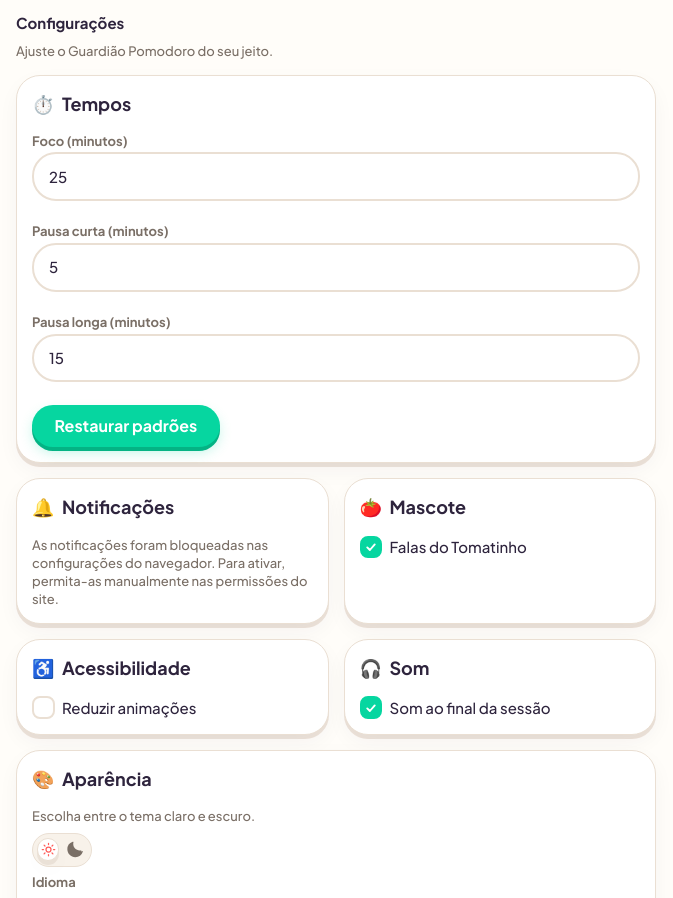
Test case: ConfiguracoesPage › seção Tempos › valor fora da faixa é clampado ao sair do campo
Step 1. Replace the text in the number field labelled "Pausa curta (minutos)" with "999" → (336, 267), box [32, 243, 640, 292]
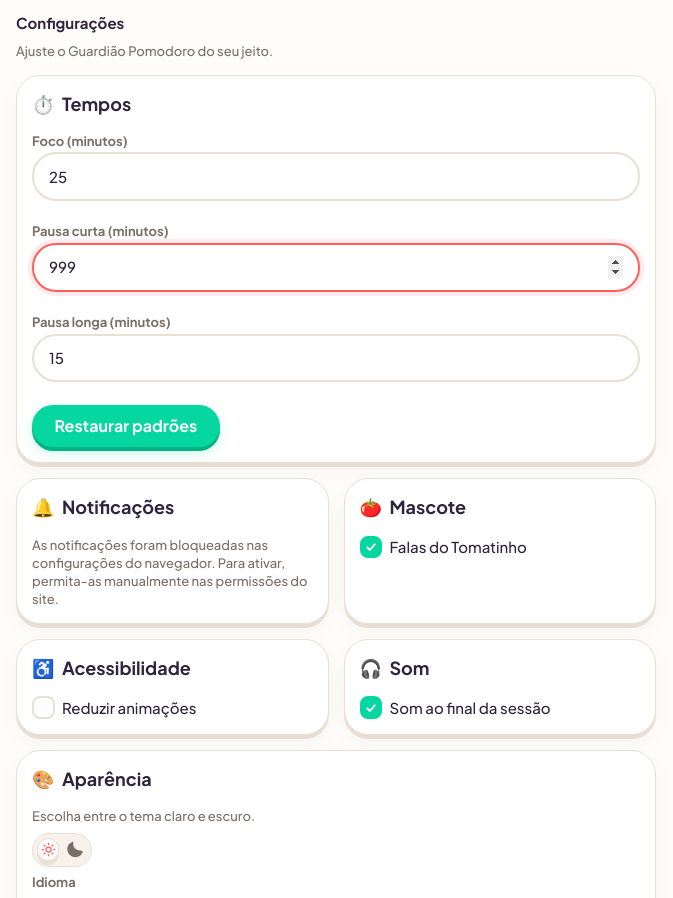
Step 2. Press Tab
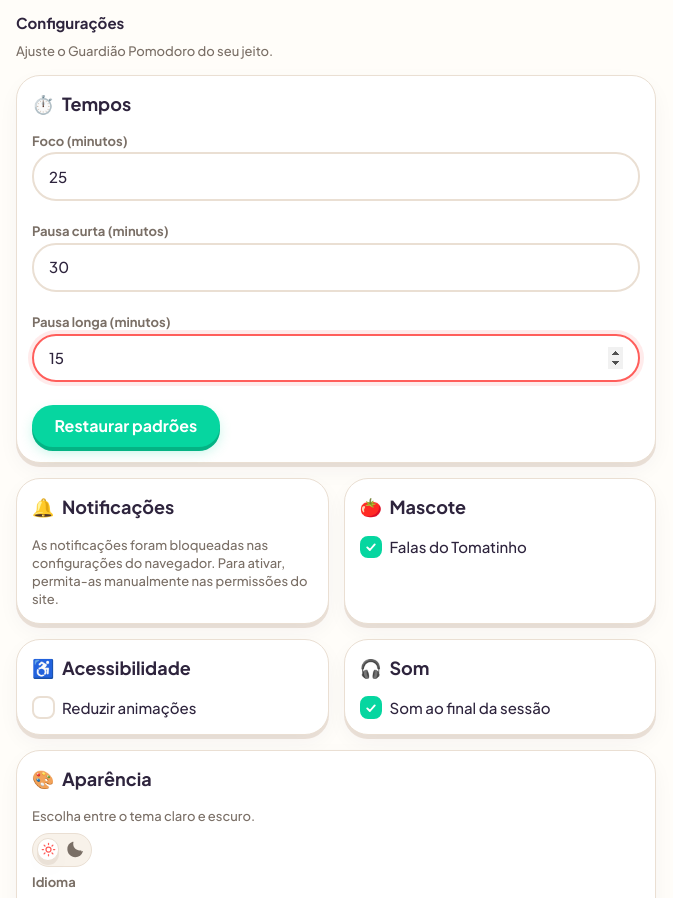
Check: the number field labelled "Pausa curta (minutos)" holds "30", box [32, 243, 640, 292]
